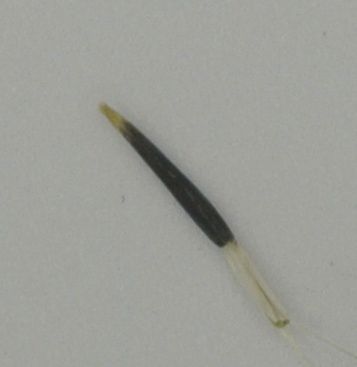เมล็ดดีเรียวยาว: (99, 98, 292, 334)
